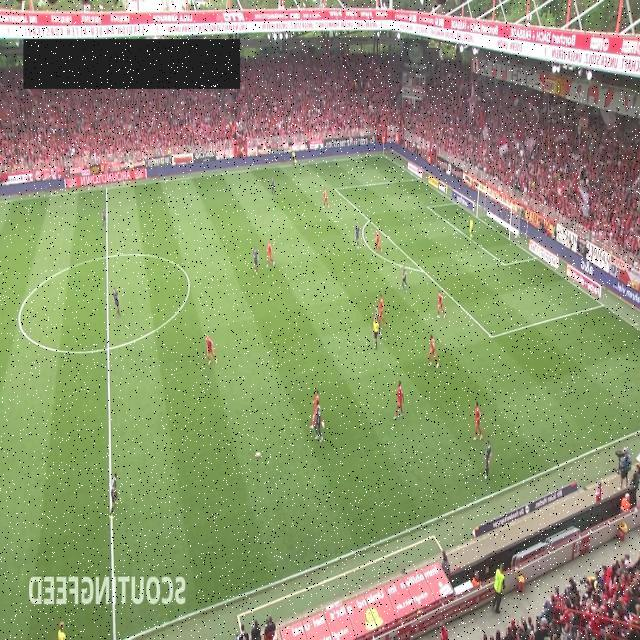Ball: (256, 452, 262, 458)
Corner: (379, 132, 388, 159)
GoalKeeper: (468, 217, 474, 240)
Referee: (372, 316, 380, 350), (58, 622, 66, 640), (291, 150, 297, 166)
TEAM 1: (205, 334, 218, 366), (310, 388, 320, 429), (473, 401, 483, 442), (428, 334, 440, 368), (394, 380, 404, 420), (378, 294, 388, 328), (436, 290, 446, 318), (266, 242, 275, 268), (374, 230, 382, 254), (322, 187, 330, 209)
TEAM 2: (482, 440, 492, 480), (314, 403, 324, 442), (110, 470, 118, 516), (112, 286, 121, 318), (374, 304, 382, 338), (401, 264, 409, 290), (253, 247, 259, 276), (354, 223, 360, 250), (270, 176, 276, 198), (101, 208, 106, 230)
